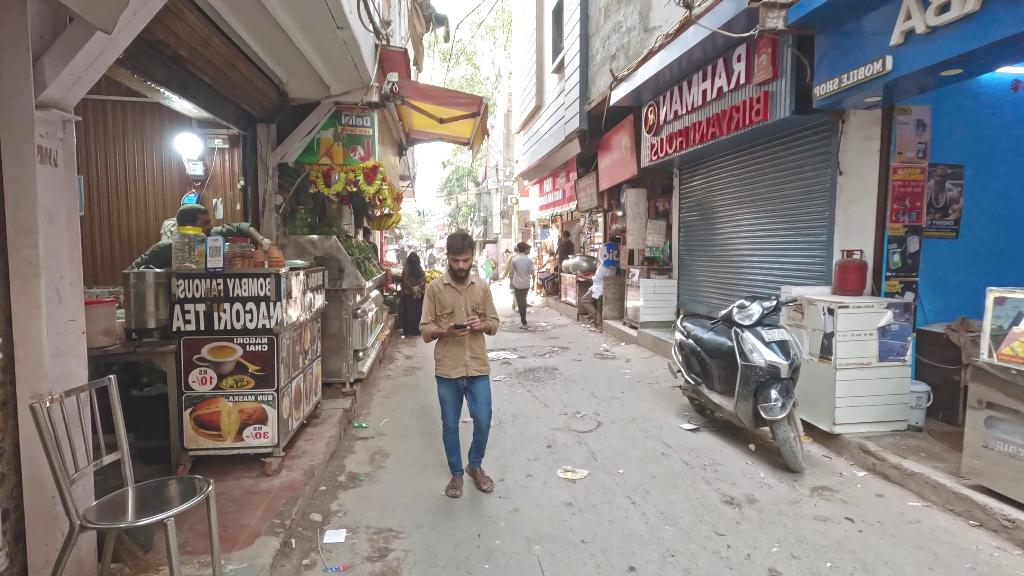garbage: (547, 457, 597, 485), (312, 521, 348, 549), (674, 415, 701, 437)
